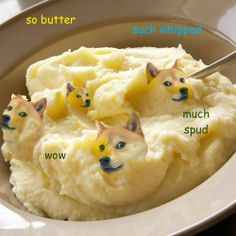doge: (92, 120, 145, 177), (143, 61, 197, 106), (1, 93, 54, 136), (63, 81, 95, 111)
